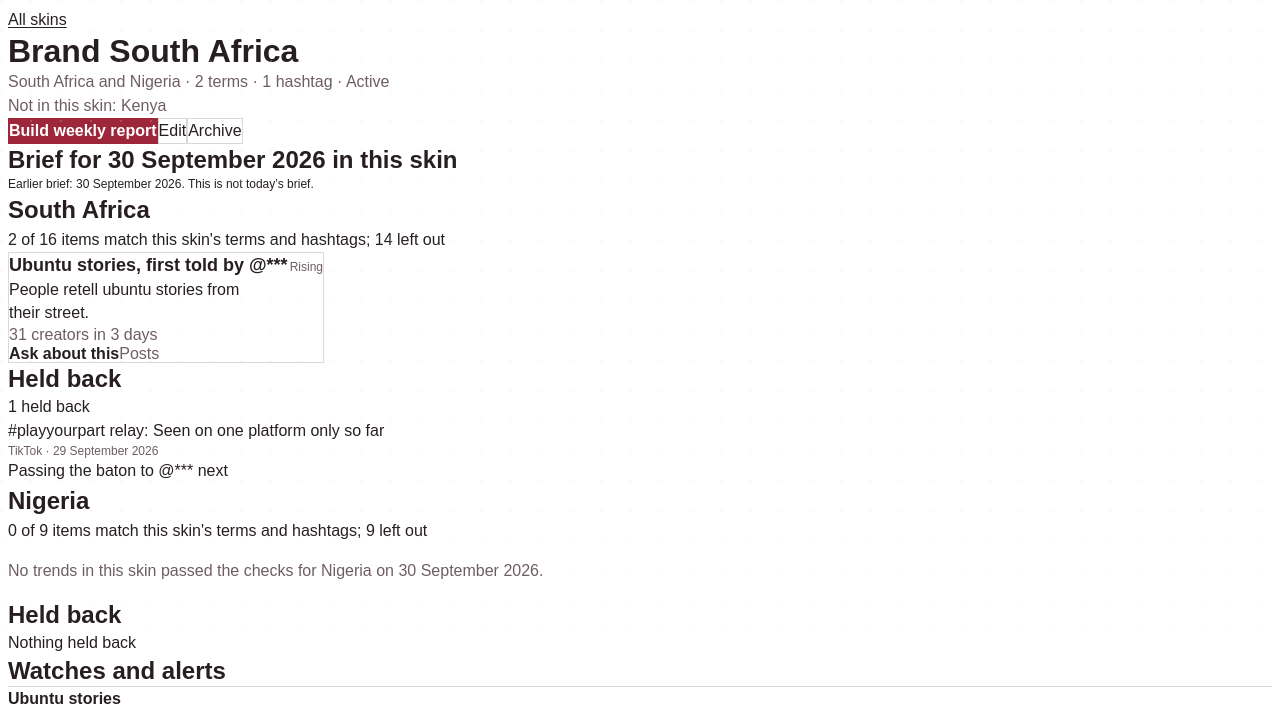
Scenario: a refused report shows the server words and stays on the page
Click the button "Build weekly report" at x=83, y=131, box [8,118,158,144]
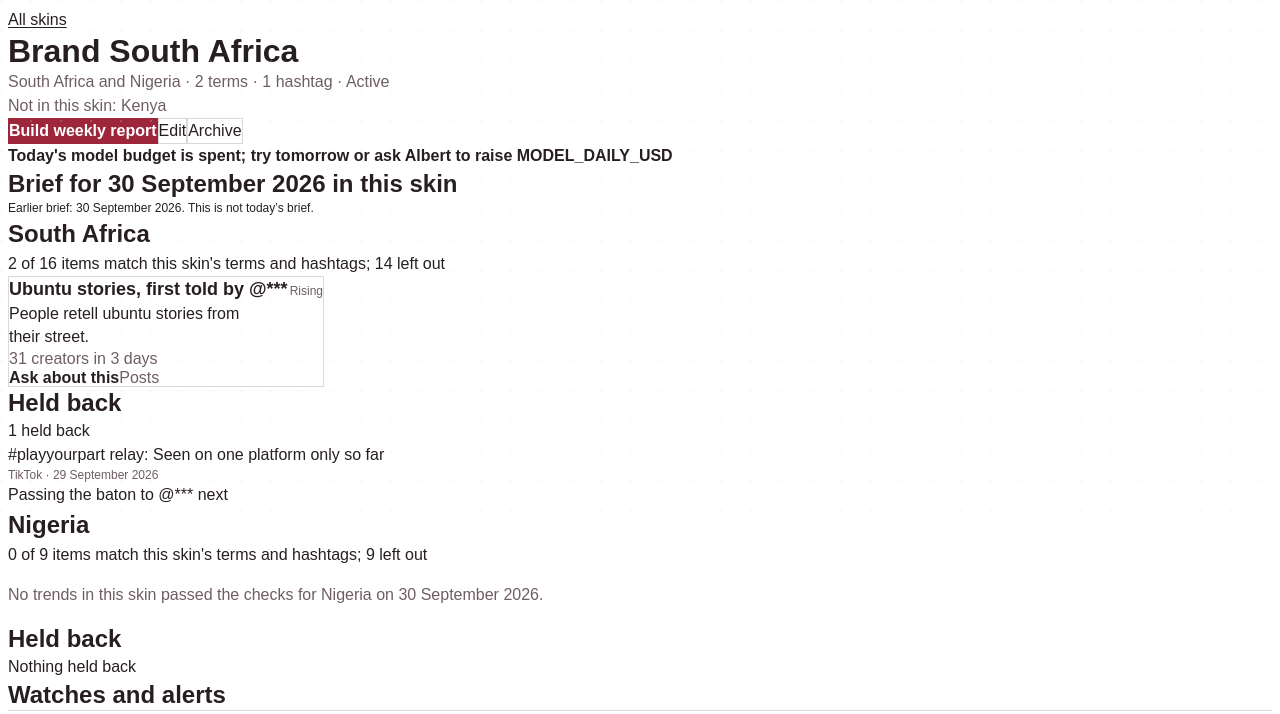
Expected: the 1st message shows "Today's model budget is spent; try tomorrow or ask Albert to raise MODEL_DAILY_USD", [8,147,673,164]
